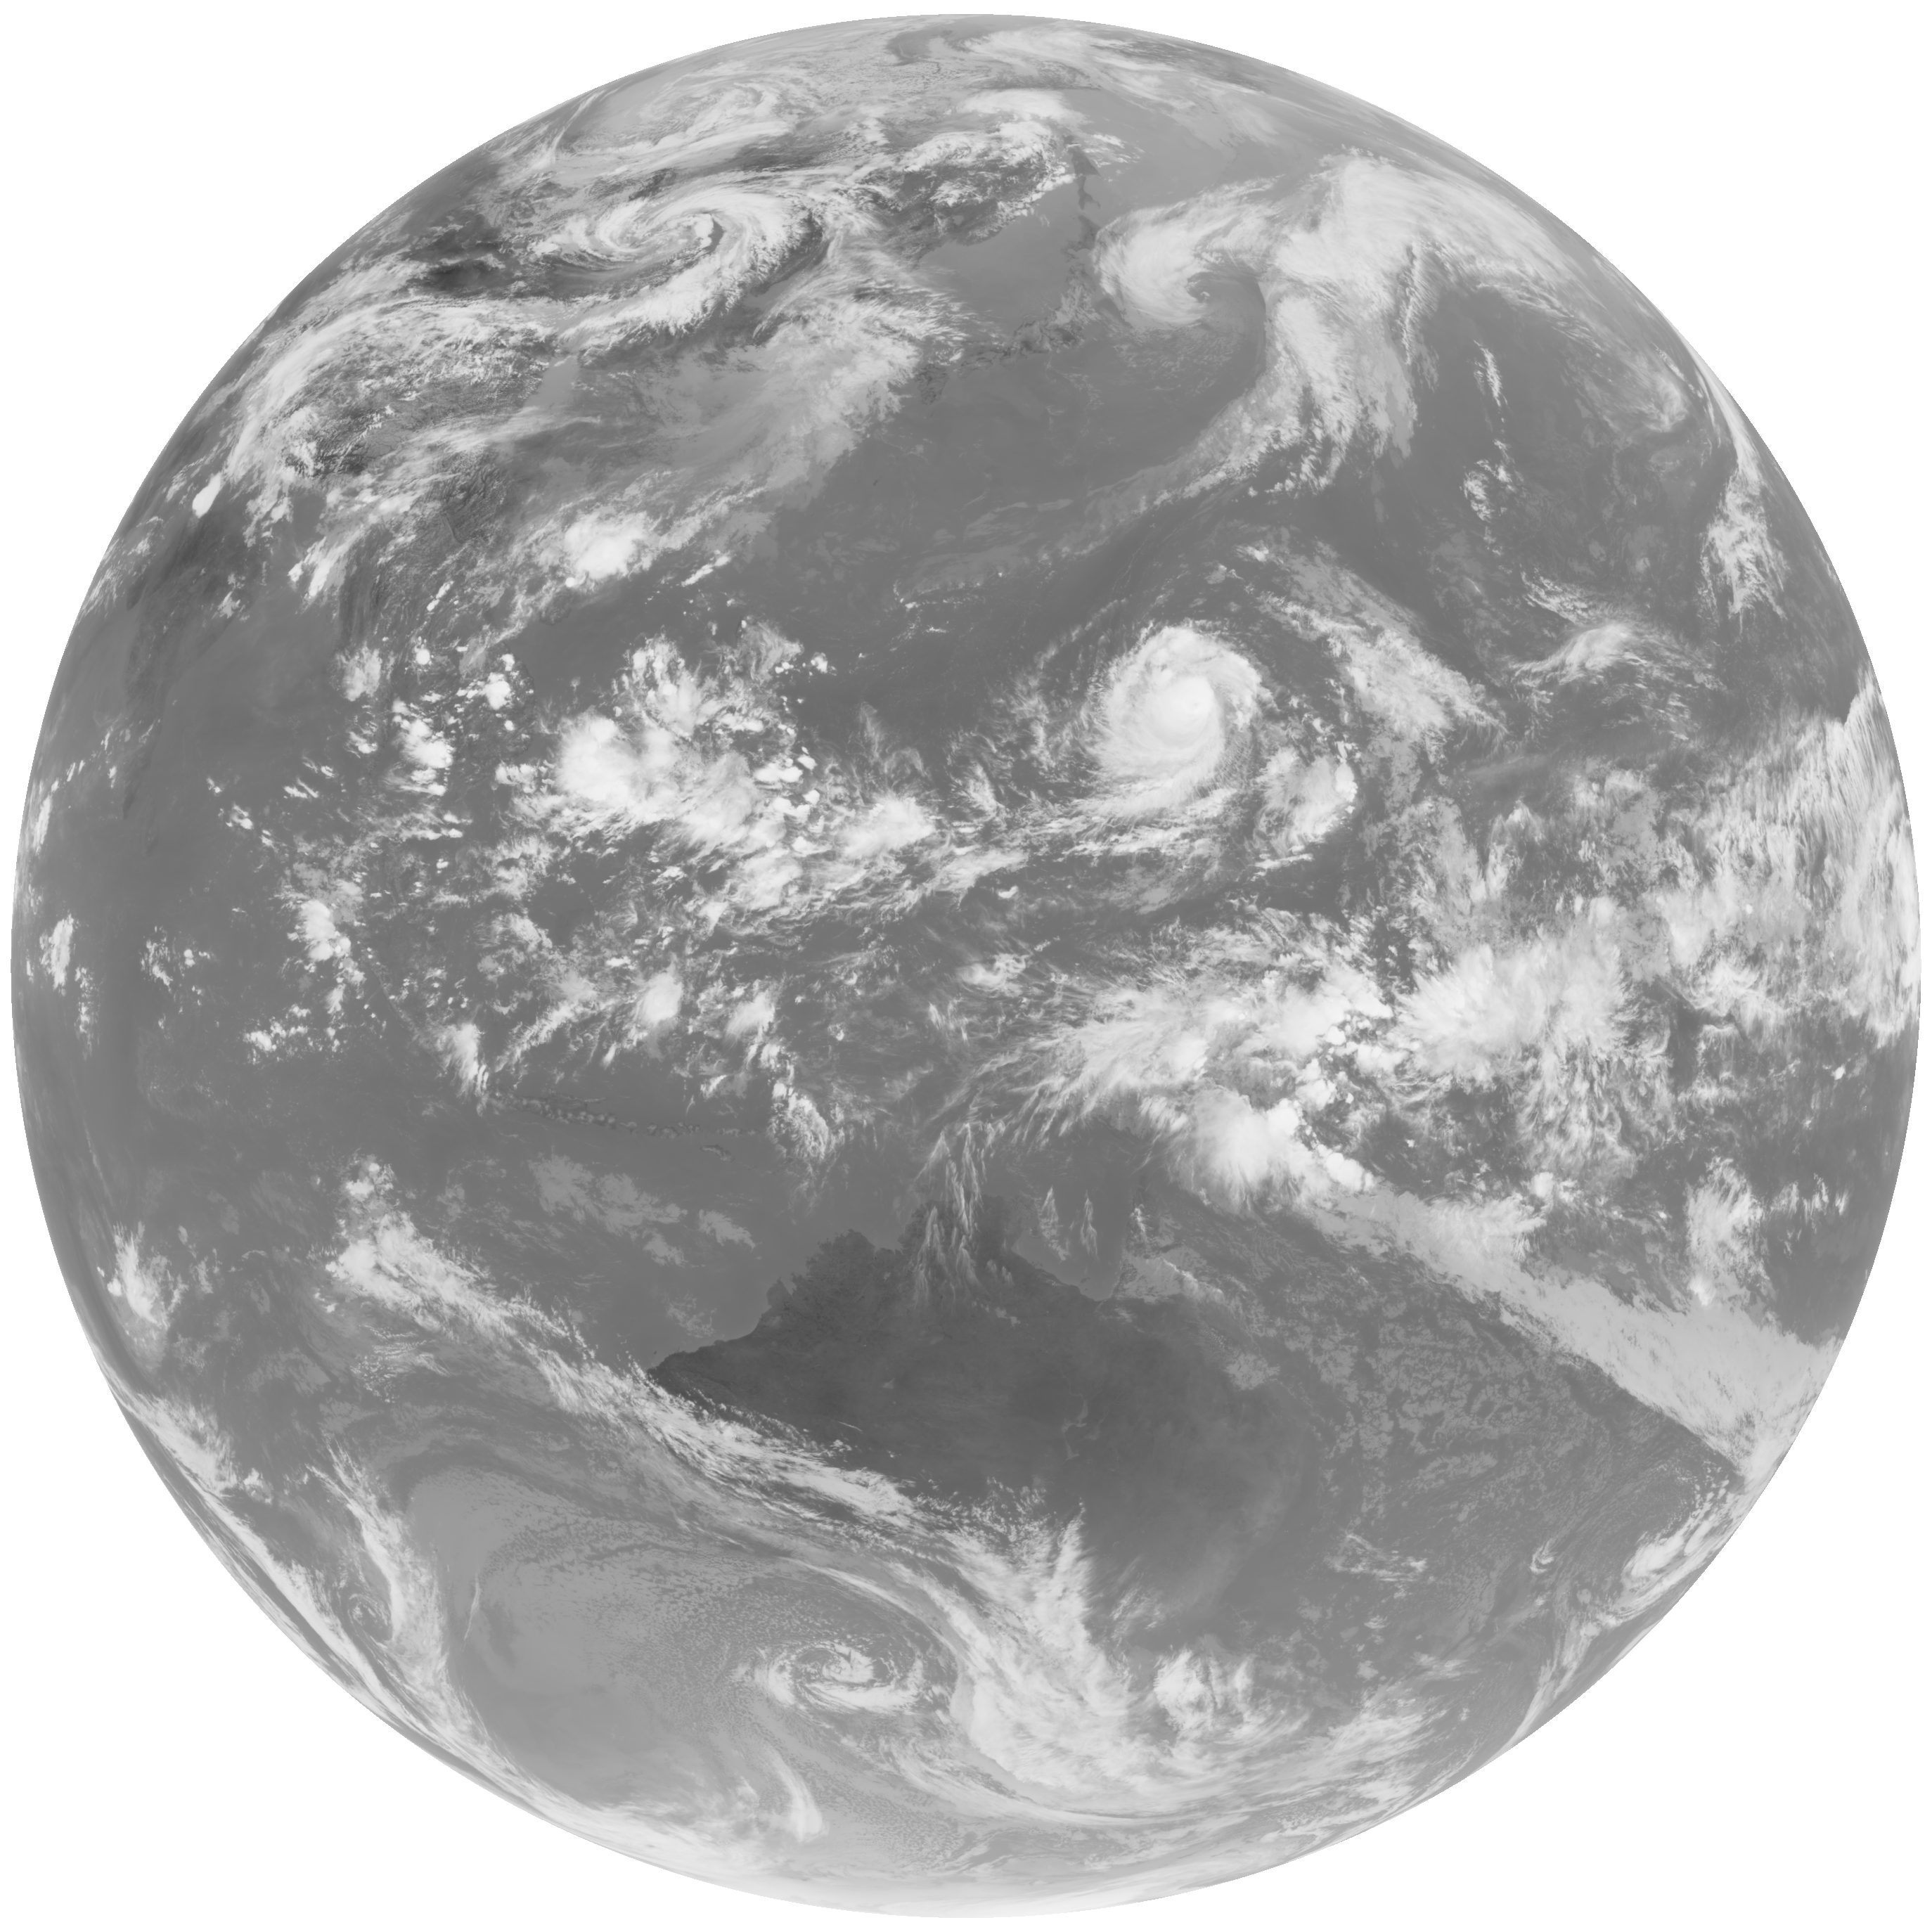typhoon: (920, 561, 1387, 904)
